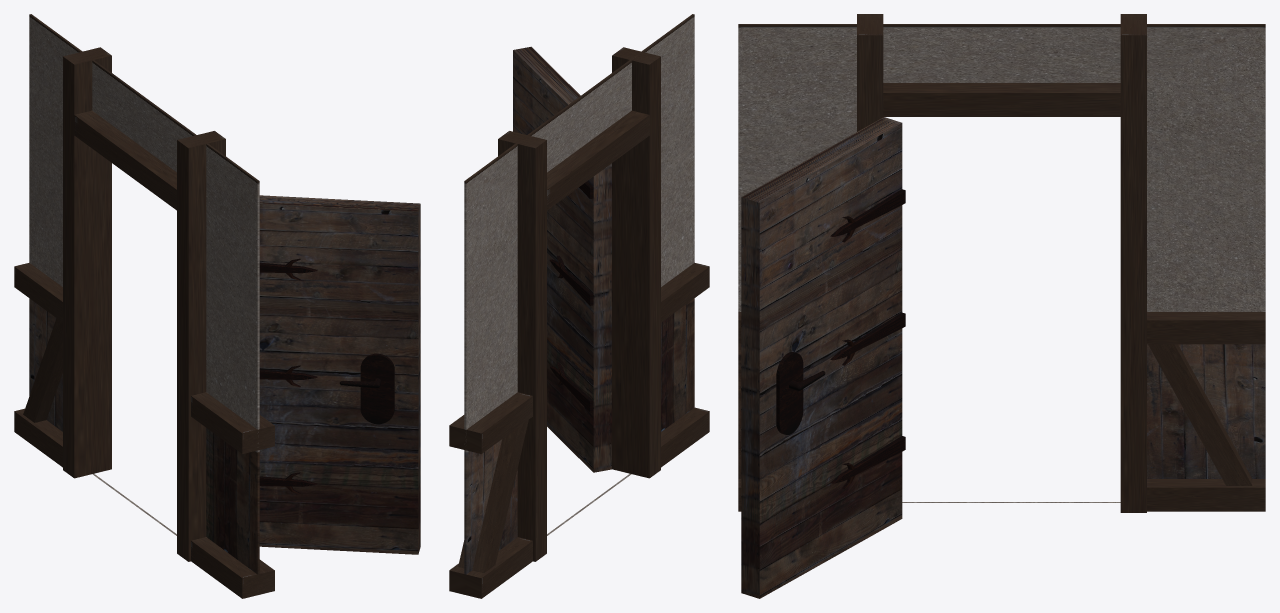
Rendered from OutdoorArchitecture_BasicWall01_Door01_OpenDoor_NoEdges_BShortt.fbx.
3 renders of one model, left to right at view 1: azimuth 30°, elevation 25°; view 2: azimuth 150°, elevation 25°; view 3: azimuth 270°, elevation 25°, orthographic. The views are drawn at different scales.
Visible parts, largest first — view 1: OutdoorArchitecture_BasicWall01_Door01_OpenDoor_NoEdges_BSho; view 2: OutdoorArchitecture_BasicWall01_Door01_OpenDoor_NoEdges_BSho; view 3: OutdoorArchitecture_BasicWall01_Door01_OpenDoor_NoEdges_BSho.
Boxes of the visible parts, left/top/right/bottom form: OutdoorArchitecture_BasicWall01_Door01_OpenDoor_NoEdges_BSho: left=14, top=14, right=420, bottom=598; OutdoorArchitecture_BasicWall01_Door01_OpenDoor_NoEdges_BSho: left=449, top=14, right=709, bottom=598; OutdoorArchitecture_BasicWall01_Door01_OpenDoor_NoEdges_BSho: left=738, top=14, right=1265, bottom=598.
Size of the model in its own units: 144 by 300 by 300.
